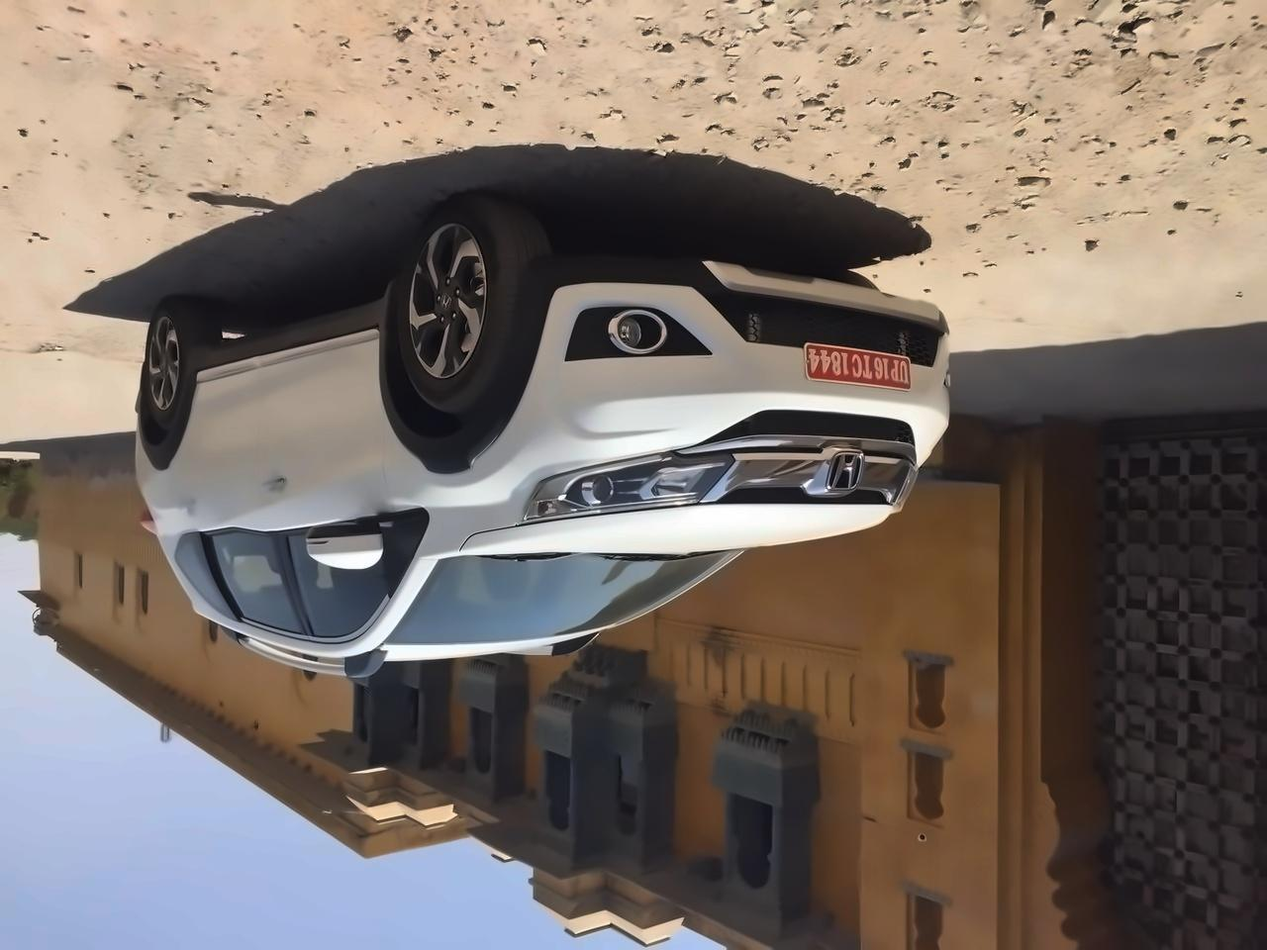Car hood: (453, 485, 898, 559)
Fender - -F-L-: (369, 273, 557, 565)
Front bumper: (505, 253, 968, 504)
Headlight - -L-: (521, 445, 739, 540)
Passenger-s door - -F-L-: (235, 316, 423, 664)
Passenger-s door - -R-L-: (172, 306, 314, 659)
Rear bumper: (110, 361, 198, 513)
Side bumper - -L-: (176, 279, 405, 439)
Side mirror - -L-: (306, 512, 413, 572)
